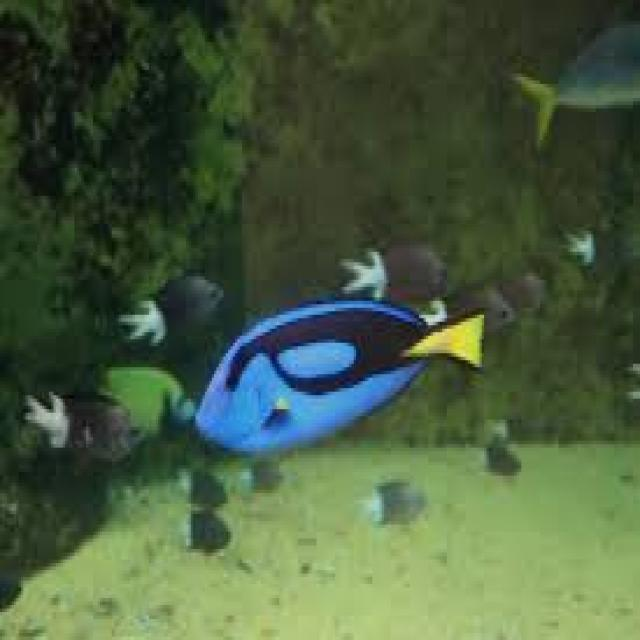TangFish: (186, 296, 485, 452)
